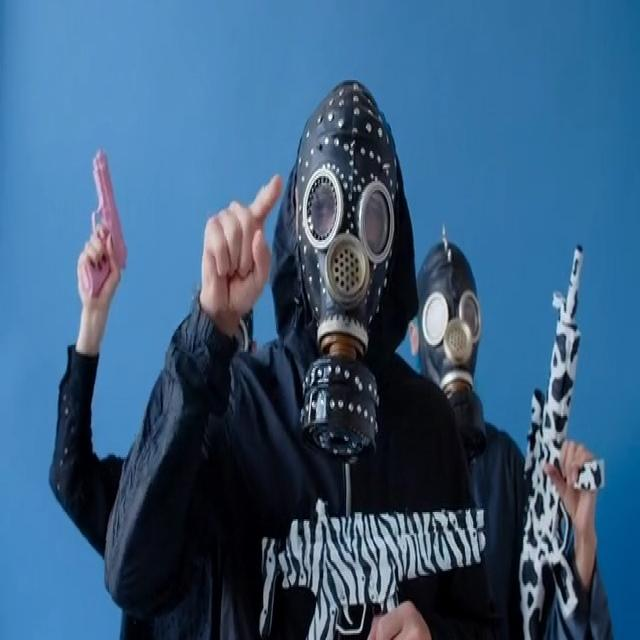Gun_Holder: (517, 225, 609, 640), (61, 132, 140, 329)
Person: (108, 80, 482, 640), (420, 221, 608, 640)
